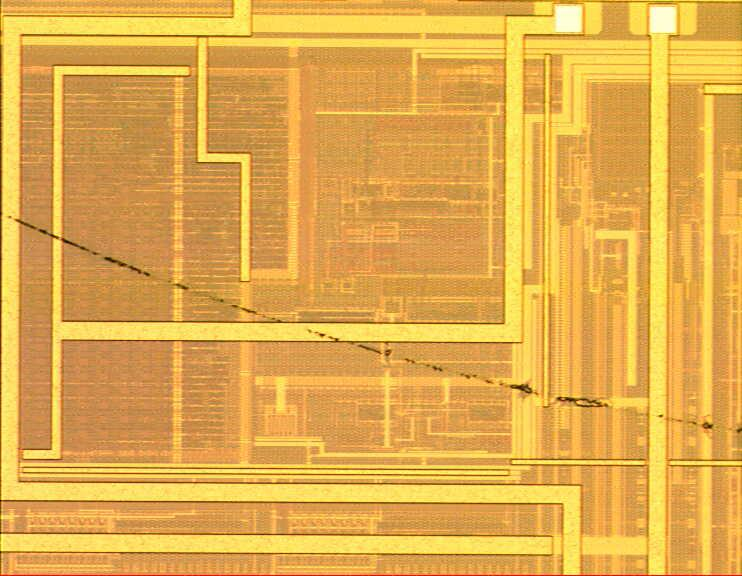SCRATCH: (1, 204, 742, 447)
